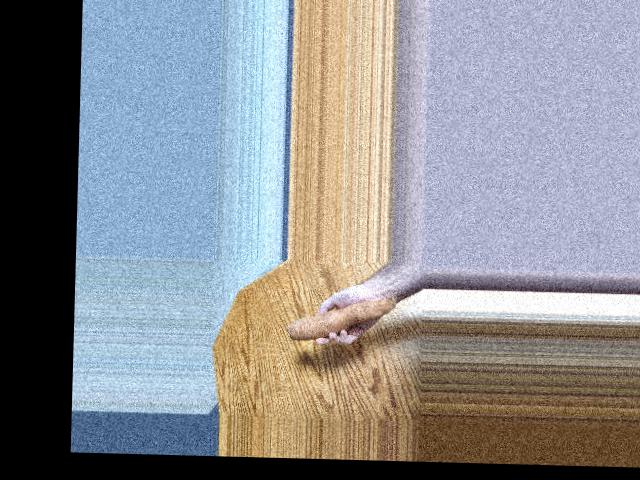sweet_potato: (271, 299, 383, 348)
